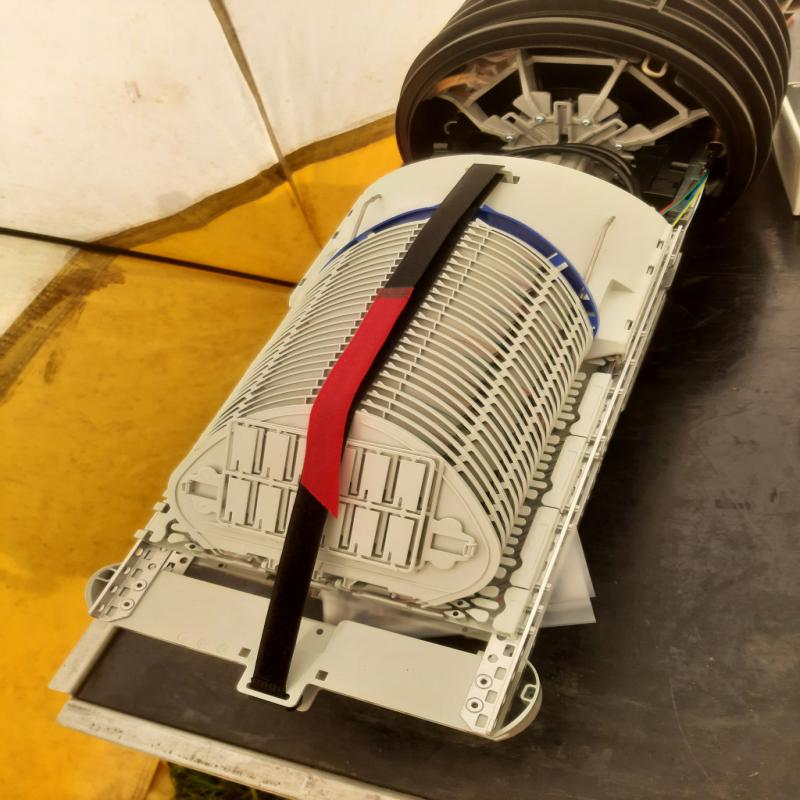NT-Muffen: (80, 2, 797, 754)
